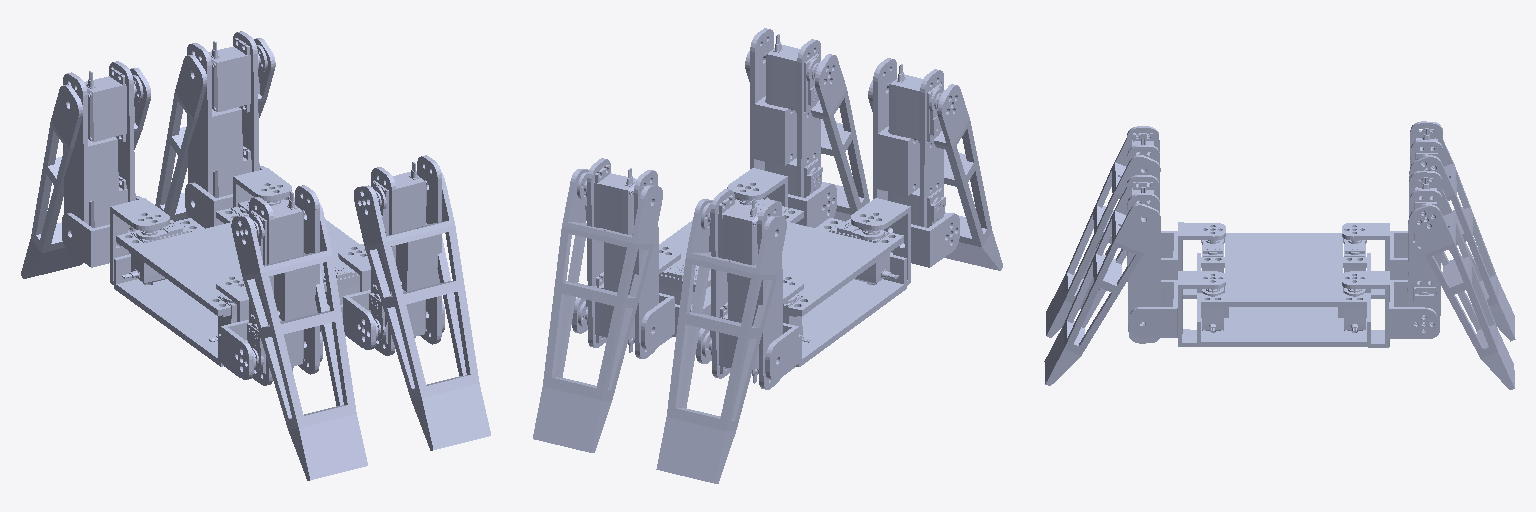
The robot description file, URDF, robot "spider":
<?xml version="1.0" encoding="utf-8"?>
<!-- This URDF was automatically created by SolidWorks to URDF Exporter! Originally created by Stephen Brawner (brawner@gmail.com) 
     Commit Version: 1.6.0-4-g7f85cfe  Build Version: 1.6.7995.38578
     For more information, please see http://wiki.ros.org/sw_urdf_exporter -->
<robot
  name="spider">
  <link
    name="base_link">
    <inertial>
      <origin
        xyz="3.9496E-14 2.609E-15 -0.022569"
        rpy="0 0 0" />
      <mass
        value="0.37198" />
      <inertia
        ixx="0.00058404"
        ixy="1.3343E-12"
        ixz="-1.0835E-19"
        iyy="0.00048578"
        iyz="4.4752E-20"
        izz="0.0010268" />
    </inertial>
    <visual>
      <origin
        xyz="0 0 0"
        rpy="0 0 0" />
      <geometry>
        <mesh
          filename="package://spider/meshes/base_link.STL" />
      </geometry>
      <material
        name="PLA">
        <color
          rgba="0.79216 0.81961 0.93333 1" />
      </material>
    </visual>
    <collision>
      <origin
        xyz="0 0 0"
        rpy="0 0 0" />
      <geometry>
        <mesh
          filename="package://spider/meshes/base_link.STL" />
      </geometry>
    </collision>
  </link>
  <link
    name="hip_RB_link">
    <inertial>
      <origin
        xyz="0.00049208 0.031159 0.031073"
        rpy="0 0 0" />
      <mass
        value="0.032853" />
      <inertia
        ixx="1.7031E-05"
        ixy="-1.0997E-07"
        ixz="1.1866E-09"
        iyy="2.265E-05"
        iyz="1.5341E-07"
        izz="1.7054E-05" />
    </inertial>
    <visual>
      <origin
        xyz="0 0 0"
        rpy="0 0 0" />
      <geometry>
        <mesh
          filename="package://spider/meshes/hip_RB_link.STL" />
      </geometry>
      <material
        name="PLA">
        <color
          rgba="0.79216 0.81961 0.93333 1" />
      </material>
    </visual>
    <collision>
      <origin
        xyz="0 0 0"
        rpy="0 0 0" />
      <geometry>
        <mesh
          filename="package://spider/meshes/hip_RB_link.STL" />
      </geometry>
    </collision>
  </link>
  <joint
    name="hip_RB_joint"
    type="revolute">
    <origin
      xyz="-0.0528 0.065 0.014"
      rpy="3.1416 0 3.1416" />
    <parent
      link="base_link" />
    <child
      link="hip_RB_link" />
    <axis
      xyz="0 0 1" />
    <limit
      lower="-1.57"
      upper="1.57"
      effort="0.922"
      velocity="6.16" />
  </joint>
  <link
    name="knee_RB_link">
    <inertial>
      <origin
        xyz="0.052429 0.00095949 0.035953"
        rpy="0 0 0" />
      <mass
        value="0.12554" />
      <inertia
        ixx="1.8824E-05"
        ixy="-9.9371E-07"
        ixz="5.6055E-18"
        iyy="7.3105E-05"
        iyz="-1.2525E-16"
        izz="6.8262E-05" />
    </inertial>
    <visual>
      <origin
        xyz="0 0 0"
        rpy="0 0 0" />
      <geometry>
        <mesh
          filename="package://spider/meshes/knee_RB_link.STL" />
      </geometry>
      <material
        name="PLA">
        <color
          rgba="0.79216 0.81961 0.93333 1" />
      </material>
    </visual>
    <collision>
      <origin
        xyz="0 0 0"
        rpy="0 0 0" />
      <geometry>
        <mesh
          filename="package://spider/meshes/knee_RB_link.STL" />
      </geometry>
    </collision>
  </link>
  <joint
    name="knee_RB_joint"
    type="revolute">
    <origin
      xyz="-0.031004 0.064242 0.0315"
      rpy="0.0077348 1.5708 0" />
    <parent
      link="hip_RB_link" />
    <child
      link="knee_RB_link" />
    <axis
      xyz="0 0 1" />
    <limit
      lower="-1.57"
      upper="1.57"
      effort="0.922"
      velocity="6.16" />
  </joint>
  <link
    name="ankle_RB_link">
    <inertial>
      <origin
        xyz="-0.088054 0.0371 0.031328"
        rpy="0 0 0" />
      <mass
        value="0.081055" />
      <inertia
        ixx="6.228E-05"
        ixy="5.9268E-05"
        ixz="-1.4399E-07"
        iyy="0.00017177"
        iyz="5.9503E-08"
        izz="0.00016991" />
    </inertial>
    <visual>
      <origin
        xyz="0 0 0"
        rpy="0 0 0" />
      <geometry>
        <mesh
          filename="package://spider/meshes/ankle_RB_link.STL" />
      </geometry>
      <material
        name="PLA">
        <color
          rgba="0.79216 0.81961 0.93333 1" />
      </material>
    </visual>
    <collision>
      <origin
        xyz="0 0 0"
        rpy="0 0 0" />
      <geometry>
        <mesh
          filename="package://spider/meshes/ankle_RB_link.STL" />
      </geometry>
    </collision>
  </link>
  <joint
    name="ankle_RB_joint"
    type="revolute">
    <origin
      xyz="0.10558 0.0019322 0"
      rpy="0 0 0" />
    <parent
      link="knee_RB_link" />
    <child
      link="ankle_RB_link" />
    <axis
      xyz="0 0 1" />
    <limit
      lower="-1.57"
      upper="1.57"
      effort="0.922"
      velocity="6.16" />
  </joint>
  <link
    name="hip_RF_link">
    <inertial>
      <origin
        xyz="-1.2819E-05 0.031163 0.031073"
        rpy="0 0 0" />
      <mass
        value="0.032853" />
      <inertia
        ixx="1.7036E-05"
        ixy="-2.0093E-07"
        ixz="-1.299E-09"
        iyy="2.2645E-05"
        iyz="1.5341E-07"
        izz="1.7054E-05" />
    </inertial>
    <visual>
      <origin
        xyz="0 0 0"
        rpy="0 0 0" />
      <geometry>
        <mesh
          filename="package://spider/meshes/hip_RF_link.STL" />
      </geometry>
      <material
        name="PLA">
        <color
          rgba="0.79216 0.81961 0.93333 1" />
      </material>
    </visual>
    <collision>
      <origin
        xyz="0 0 0"
        rpy="0 0 0" />
      <geometry>
        <mesh
          filename="package://spider/meshes/hip_RF_link.STL" />
      </geometry>
    </collision>
  </link>
  <joint
    name="hip_RF_joint"
    type="revolute">
    <origin
      xyz="0.0528 0.065 0.014"
      rpy="3.1416 0 3.1416" />
    <parent
      link="base_link" />
    <child
      link="hip_RF_link" />
    <axis
      xyz="0 0 1" />
    <limit
      lower="-1.57"
      upper="1.57"
      effort="0.922"
      velocity="6.16" />
  </joint>
  <link
    name="knee_RF_link">
    <inertial>
      <origin
        xyz="0.052431 0.00085755 0.035953"
        rpy="0 0 0" />
      <mass
        value="0.12554" />
      <inertia
        ixx="1.882E-05"
        ixy="-8.8817E-07"
        ixz="-3.8276E-18"
        iyy="7.3109E-05"
        iyz="1.1281E-16"
        izz="6.8262E-05" />
    </inertial>
    <visual>
      <origin
        xyz="0 0 0"
        rpy="0 0 0" />
      <geometry>
        <mesh
          filename="package://spider/meshes/knee_RF_link.STL" />
      </geometry>
      <material
        name="PLA">
        <color
          rgba="0.79216 0.81961 0.93333 1" />
      </material>
    </visual>
    <collision>
      <origin
        xyz="0 0 0"
        rpy="0 0 0" />
      <geometry>
        <mesh
          filename="package://spider/meshes/knee_RF_link.STL" />
      </geometry>
    </collision>
  </link>
  <joint
    name="knee_RF_joint"
    type="revolute">
    <origin
      xyz="-0.032041 0.063731 0.0315"
      rpy="0.0084678 1.5708 0" />
    <parent
      link="hip_RF_link" />
    <child
      link="knee_RF_link" />
    <axis
      xyz="0 0 1" />
    <limit
      lower="-1.57"
      upper="1.57"
      effort="0.922"
      velocity="6.16" />
  </joint>
  <link
    name="ankle_RF_link">
    <inertial>
      <origin
        xyz="-0.088026 0.037166 0.031328"
        rpy="0 0 0" />
      <mass
        value="0.081055" />
      <inertia
        ixx="6.2369E-05"
        ixy="5.935E-05"
        ixz="-1.4394E-07"
        iyy="0.00017168"
        iyz="5.9611E-08"
        izz="0.00016991" />
    </inertial>
    <visual>
      <origin
        xyz="0 0 0"
        rpy="0 0 0" />
      <geometry>
        <mesh
          filename="package://spider/meshes/ankle_RF_link.STL" />
      </geometry>
      <material
        name="PLA">
        <color
          rgba="0.79216 0.81961 0.93333 1" />
      </material>
    </visual>
    <collision>
      <origin
        xyz="0 0 0"
        rpy="0 0 0" />
      <geometry>
        <mesh
          filename="package://spider/meshes/ankle_RF_link.STL" />
      </geometry>
    </collision>
  </link>
  <joint
    name="ankle_RF_joint"
    type="revolute">
    <origin
      xyz="0.10559 0.0017269 0"
      rpy="0 0 0" />
    <parent
      link="knee_RF_link" />
    <child
      link="ankle_RF_link" />
    <axis
      xyz="0 0 1" />
    <limit
      lower="-1.57"
      upper="1.57"
      effort="0.922"
      velocity="6.16" />
  </joint>
  <link
    name="hip_LB_link">
    <inertial>
      <origin
        xyz="-0.00018488 0.031163 0.031073"
        rpy="0 0 0" />
      <mass
        value="0.032853" />
      <inertia
        ixx="1.7039E-05"
        ixy="-2.3188E-07"
        ixz="-2.146E-09"
        iyy="2.2642E-05"
        iyz="1.534E-07"
        izz="1.7054E-05" />
    </inertial>
    <visual>
      <origin
        xyz="0 0 0"
        rpy="0 0 0" />
      <geometry>
        <mesh
          filename="package://spider/meshes/hip_LB_link.STL" />
      </geometry>
      <material
        name="PLA">
        <color
          rgba="0.79216 0.81961 0.93333 1" />
      </material>
    </visual>
    <collision>
      <origin
        xyz="0 0 0"
        rpy="0 0 0" />
      <geometry>
        <mesh
          filename="package://spider/meshes/hip_LB_link.STL" />
      </geometry>
    </collision>
  </link>
  <joint
    name="hip_LB_joint"
    type="revolute">
    <origin
      xyz="-0.0528 -0.065 0.014"
      rpy="3.1416 0 0" />
    <parent
      link="base_link" />
    <child
      link="hip_LB_link" />
    <axis
      xyz="0 0 1" />
    <limit
      lower="-1.57"
      upper="1.57"
      effort="0.922"
      velocity="6.16" />
  </joint>
  <link
    name="knee_LB_link">
    <inertial>
      <origin
        xyz="0.052437 0.00032122 0.035953"
        rpy="0 0 0" />
      <mass
        value="0.12554" />
      <inertia
        ixx="1.8808E-05"
        ixy="-3.3272E-07"
        ixz="9.6567E-20"
        iyy="7.3122E-05"
        iyz="5.44E-17"
        izz="6.8262E-05" />
    </inertial>
    <visual>
      <origin
        xyz="0 0 0"
        rpy="0 0 0" />
      <geometry>
        <mesh
          filename="package://spider/meshes/knee_LB_link.STL" />
      </geometry>
      <material
        name="PLA">
        <color
          rgba="0.79216 0.81961 0.93333 1" />
      </material>
    </visual>
    <collision>
      <origin
        xyz="0 0 0"
        rpy="0 0 0" />
      <geometry>
        <mesh
          filename="package://spider/meshes/knee_LB_link.STL" />
      </geometry>
    </collision>
  </link>
  <joint
    name="knee_LB_joint"
    type="revolute">
    <origin
      xyz="-0.032392 0.063553 0.0315"
      rpy="0.013989 1.5708 0" />
    <parent
      link="hip_LB_link" />
    <child
      link="knee_LB_link" />
    <axis
      xyz="0 0 1" />
    <limit
      lower="-1.57"
      upper="1.57"
      effort="0.922"
      velocity="6.16" />
  </joint>
  <link
    name="ankle_LB_link">
    <inertial>
      <origin
        xyz="-0.086202 0.04122 0.031328"
        rpy="0 0 0" />
      <mass
        value="0.081055" />
      <inertia
        ixx="6.812E-05"
        ixy="6.4172E-05"
        ixz="-1.4101E-07"
        iyy="0.00016593"
        iyz="6.6241E-08"
        izz="0.00016991" />
    </inertial>
    <visual>
      <origin
        xyz="0 0 0"
        rpy="0 0 0" />
      <geometry>
        <mesh
          filename="package://spider/meshes/ankle_LB_link.STL" />
      </geometry>
      <material
        name="PLA">
        <color
          rgba="0.79216 0.81961 0.93333 1" />
      </material>
    </visual>
    <collision>
      <origin
        xyz="0 0 0"
        rpy="0 0 0" />
      <geometry>
        <mesh
          filename="package://spider/meshes/ankle_LB_link.STL" />
      </geometry>
    </collision>
  </link>
  <joint
    name="ankle_LB_joint"
    type="revolute">
    <origin
      xyz="0.1056 0.00064686 0"
      rpy="0 0 0" />
    <parent
      link="knee_LB_link" />
    <child
      link="ankle_LB_link" />
    <axis
      xyz="0 0 1" />
    <limit
      lower="-1.57"
      upper="1.57"
      effort="0.922"
      velocity="6.16" />
  </joint>
  <link
    name="hip_LF_link">
    <inertial>
      <origin
        xyz="-0.0002804 0.031162 0.031073"
        rpy="0 0 0" />
      <mass
        value="0.032853" />
      <inertia
        ixx="1.704E-05"
        ixy="-2.4905E-07"
        ixz="-2.6162E-09"
        iyy="2.2641E-05"
        iyz="1.5339E-07"
        izz="1.7054E-05" />
    </inertial>
    <visual>
      <origin
        xyz="0 0 0"
        rpy="0 0 0" />
      <geometry>
        <mesh
          filename="package://spider/meshes/hip_LF_link.STL" />
      </geometry>
      <material
        name="PLA">
        <color
          rgba="0.79216 0.81961 0.93333 1" />
      </material>
    </visual>
    <collision>
      <origin
        xyz="0 0 0"
        rpy="0 0 0" />
      <geometry>
        <mesh
          filename="package://spider/meshes/hip_LF_link.STL" />
      </geometry>
    </collision>
  </link>
  <joint
    name="hip_LF_joint"
    type="revolute">
    <origin
      xyz="0.0528 -0.065 0.014"
      rpy="3.1416 0 0" />
    <parent
      link="base_link" />
    <child
      link="hip_LF_link" />
    <axis
      xyz="0 0 1" />
    <limit
      lower="-1.57"
      upper="1.57"
      effort="0.922"
      velocity="6.16" />
  </joint>
  <link
    name="knee_LF_link">
    <inertial>
      <origin
        xyz="0.052437 0.00038896 0.035953"
        rpy="0 0 0" />
      <mass
        value="0.12554" />
      <inertia
        ixx="1.8809E-05"
        ixy="-4.0289E-07"
        ixz="1.4422E-19"
        iyy="7.3121E-05"
        iyz="5.8217E-17"
        izz="6.8262E-05" />
    </inertial>
    <visual>
      <origin
        xyz="0 0 0"
        rpy="0 0 0" />
      <geometry>
        <mesh
          filename="package://spider/meshes/knee_LF_link.STL" />
      </geometry>
      <material
        name="PLA">
        <color
          rgba="0.79216 0.81961 0.93333 1" />
      </material>
    </visual>
    <collision>
      <origin
        xyz="0 0 0"
        rpy="0 0 0" />
      <geometry>
        <mesh
          filename="package://spider/meshes/knee_LF_link.STL" />
      </geometry>
    </collision>
  </link>
  <joint
    name="knee_LF_joint"
    type="revolute">
    <origin
      xyz="-0.032587 0.063454 0.0315"
      rpy="0.017054 1.5708 0" />
    <parent
      link="hip_LF_link" />
    <child
      link="knee_LF_link" />
    <axis
      xyz="0 0 -1" />
    <limit
      lower="-1.57"
      upper="1.57"
      effort="0.922"
      velocity="6.16" />
  </joint>
  <link
    name="ankle_LF_link">
    <inertial>
      <origin
        xyz="-0.085981 0.04168 0.031328"
        rpy="0 0 0" />
      <mass
        value="0.081055" />
      <inertia
        ixx="6.8809E-05"
        ixy="6.4691E-05"
        ixz="-1.4066E-07"
        iyy="0.00016524"
        iyz="6.6994E-08"
        izz="0.00016991" />
    </inertial>
    <visual>
      <origin
        xyz="0 0 0"
        rpy="0 0 0" />
      <geometry>
        <mesh
          filename="package://spider/meshes/ankle_LF_link.STL" />
      </geometry>
      <material
        name="PLA">
        <color
          rgba="0.79216 0.81961 0.93333 1" />
      </material>
    </visual>
    <collision>
      <origin
        xyz="0 0 0"
        rpy="0 0 0" />
      <geometry>
        <mesh
          filename="package://spider/meshes/ankle_LF_link.STL" />
      </geometry>
    </collision>
  </link>
  <joint
    name="ankle_LF_joint"
    type="revolute">
    <origin
      xyz="0.1056 0.00078329 0"
      rpy="0 0 0" />
    <parent
      link="knee_LF_link" />
    <child
      link="ankle_LF_link" />
    <axis
      xyz="0 0 1" />
    <limit
      lower="-1.57"
      upper="1.57"
      effort="0.922"
      velocity="6.16" />
  </joint>
</robot>

--- Render facts (derived) ---
The picture shows the robot from 3 angles, left to right: view 1: azimuth 30°, elevation 25°; view 2: azimuth 150°, elevation 25°; view 3: azimuth 270°, elevation 25°; orthographic projection.
Robot: spider — 13 links, 12 joints (12 revolute); root link base_link; default pose: every joint at zero.
Links seen in each view (by area): view 1: base_link, ankle_LF_link, ankle_LB_link, knee_RB_link, knee_RF_link, knee_LB_link, knee_LF_link, ankle_RB_link, ankle_RF_link, hip_RB_link, hip_RF_link, hip_LB_link (+1 smaller); view 2: ankle_RF_link, ankle_RB_link, base_link, knee_LF_link, knee_LB_link, knee_RB_link, knee_RF_link, ankle_LB_link, ankle_LF_link, hip_LB_link, hip_LF_link, hip_RF_link (+1 smaller); view 3: base_link, ankle_LF_link, ankle_RF_link, ankle_LB_link, ankle_RB_link, hip_LF_link, hip_RF_link, knee_RF_link, knee_LF_link, hip_RB_link, hip_LB_link, knee_RB_link (+1 smaller).
Boxes of the visible links, <box> form: base_link: <box>114,196,359,366</box>; ankle_LF_link: <box>354,173,490,450</box>; ankle_LB_link: <box>231,202,367,480</box>; knee_RB_link: <box>63,61,135,262</box>; knee_RF_link: <box>187,31,259,197</box>; knee_LB_link: <box>247,185,319,385</box>; knee_LF_link: <box>369,155,441,355</box>; ankle_RB_link: <box>21,68,150,278</box>; ankle_RF_link: <box>155,38,275,221</box>; hip_RB_link: <box>62,196,169,284</box>; hip_RF_link: <box>185,166,291,228</box>; hip_LB_link: <box>216,274,322,379</box>; ankle_RF_link: <box>533,169,662,452</box>; ankle_RB_link: <box>656,199,786,483</box>; base_link: <box>659,198,906,366</box>; knee_LF_link: <box>750,28,822,197</box>; knee_LB_link: <box>873,58,945,227</box>; knee_RB_link: <box>702,189,782,389</box>; knee_RF_link: <box>578,158,658,358</box>; ankle_LB_link: <box>868,80,1002,270</box>; ankle_LF_link: <box>745,51,869,221</box>; hip_LB_link: <box>851,198,959,285</box>; hip_LF_link: <box>727,168,836,227</box>; hip_RF_link: <box>572,244,680,350</box>; base_link: <box>1197,233,1370,346</box>; ankle_LF_link: <box>1044,182,1160,385</box>; ankle_RF_link: <box>1409,178,1514,389</box>; ankle_LB_link: <box>1046,133,1160,337</box>; ankle_RB_link: <box>1410,129,1515,341</box>; hip_LF_link: <box>1129,271,1225,346</box>; hip_RF_link: <box>1342,271,1436,347</box>; knee_RF_link: <box>1407,171,1442,338</box>; knee_LF_link: <box>1127,175,1160,343</box>; hip_RB_link: <box>1342,223,1407,298</box>; hip_LB_link: <box>1161,222,1225,298</box>; knee_RB_link: <box>1408,121,1442,232</box>.
Size in the robot's own frame: 0.1704 by 0.4319 by 0.1987 metres.
13 mesh visuals loaded from 13 distinct referenced files (13 binary STL).
